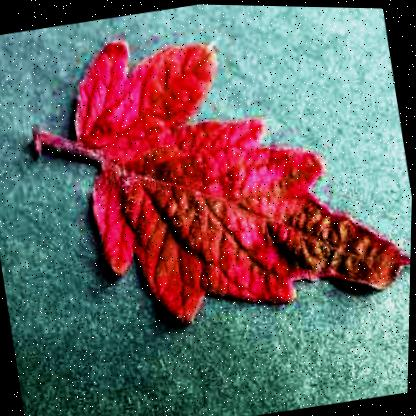Virus: (0, 0, 415, 358)
